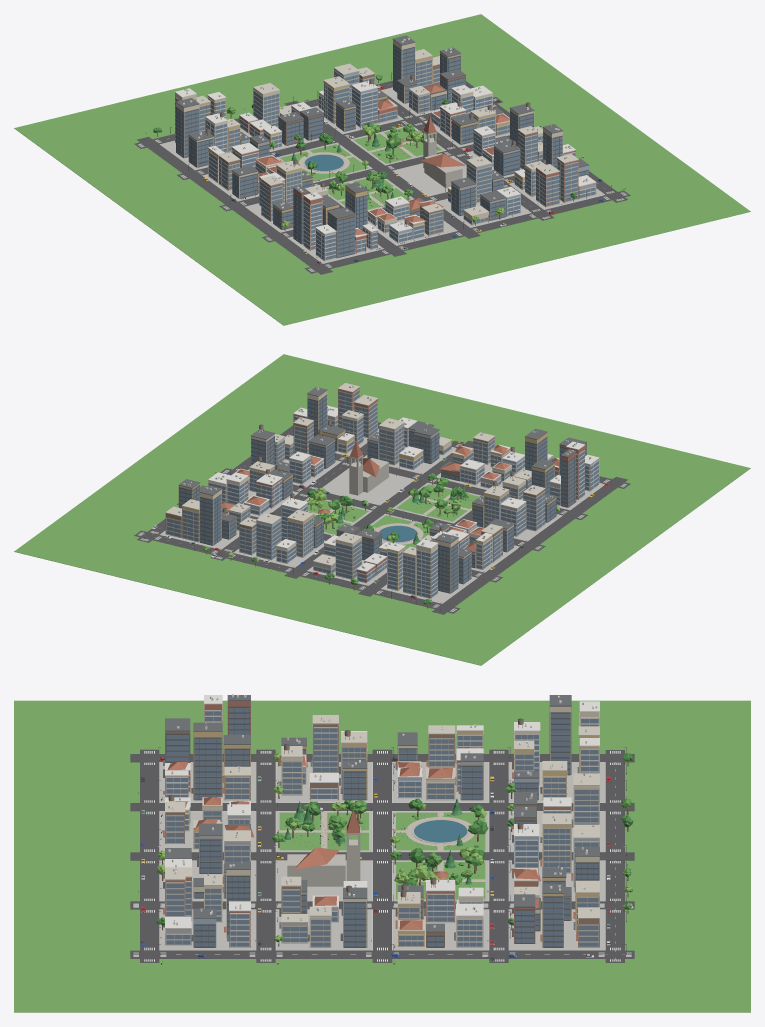
File: town.glb
The picture shows the model from 3 angles, top to bottom: view 1: azimuth 30°, elevation 25°; view 2: azimuth 150°, elevation 25°; view 3: azimuth 270°, elevation 25°; orthographic projection. The views are drawn at different scales.
Parts seen in each view (by area): view 1: map; view 2: map; view 3: map.
Part boxes in pixels (x1,y1,x2,y2): map: [14, 14, 750, 325]; map: [14, 354, 750, 665]; map: [14, 694, 750, 1012].
Size of the model in its own units: 380 by 41.59 by 380.
